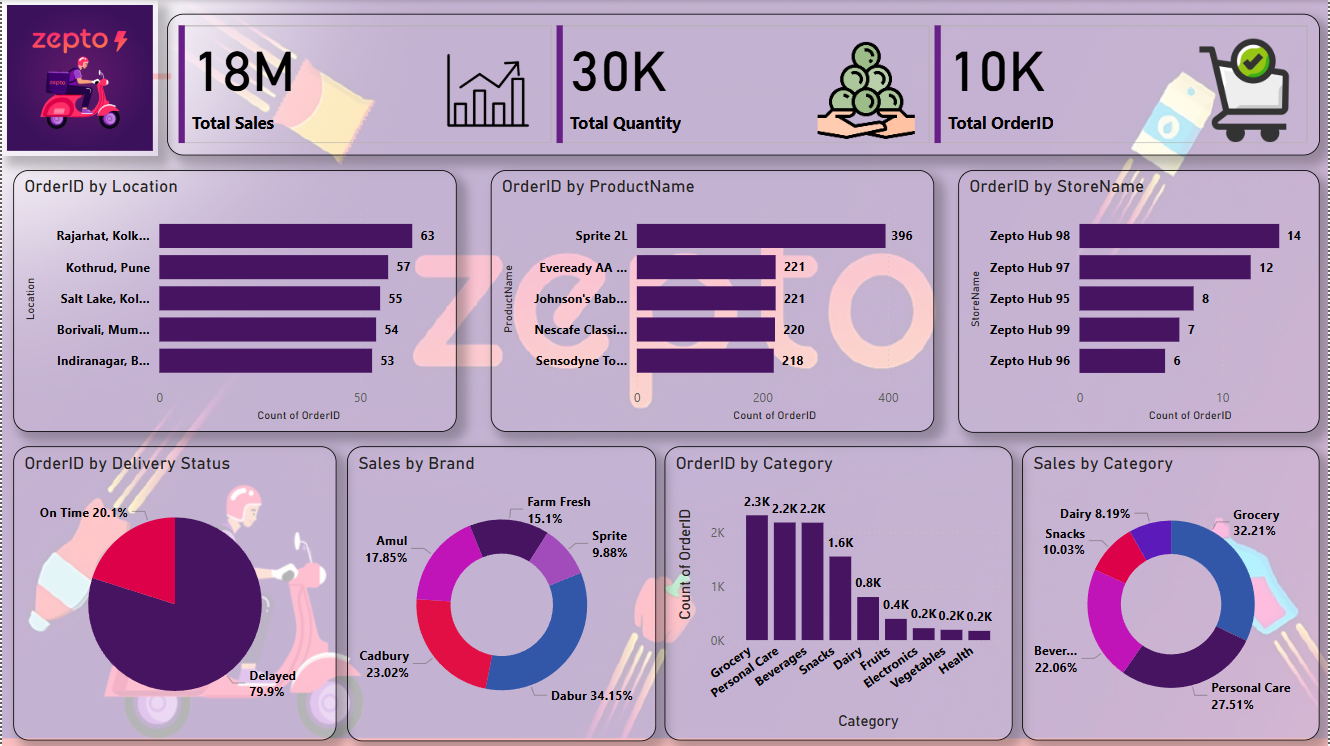

The dashboard page shown, as its layout file describes it:
{"tool":"powerbi","page":{"name":"Page 1","canvas":[1280,720],"ordinal":0},"visuals":[{"type":"pieChart","title":"OrderID by Delivery Status","fields":{"Category":["Orders.Delivery Status"],"Y":["CountNonNull(Orders.OrderID)"]},"box":[11,430.4,311.8,283.7],"z":0},{"type":"clusteredBarChart","title":" OrderID by ProductName","fields":{"Category":["Products.ProductName"],"Y":["CountNonNull(Orders.OrderID)"]},"box":[472,163.9,428,253.1],"z":1000},{"type":"clusteredBarChart","title":" OrderID by StoreName","fields":{"Category":["Warehouse.StoreName"],"Y":["CountNonNull(Returns.OrderID)"]},"box":[922.9,164.1,348.7,253.4],"z":2000},{"type":"clusteredBarChart","title":"OrderID by Location","fields":{"Y":["CountNonNull(Returns.OrderID)"],"Category":["Warehouse.Location"]},"box":[11,163.9,428,253.1],"z":3000},{"type":"clusteredColumnChart","title":"OrderID by Category","fields":{"Category":["Products.Category"],"Y":["CountNonNull(Orders.OrderID)"]},"box":[639.5,430.4,336.3,283.7],"z":4000},{"type":"donutChart","fields":{"Category":["Zepto Supply Chain.Brand"],"Y":["Table.Sales"]},"box":[332.6,430.4,298.4,284.9],"z":5000},{"type":"donutChart","fields":{"Category":["Products.Category"],"Y":["Table.Sales"]},"box":[984.4,430.4,287.4,283.7],"z":6000},{"type":"image","box":[0,0,150.4,150.4],"z":7000},{"type":"cardVisual","fields":{"Data":["Table.Sales","Sum(Orders.Quantity)","CountNonNull(Orders.OrderID)"]},"box":[159,13.5,1112.8,137],"z":8000}]}

Visuals, with their boxes in screenshot pixels (x1, y1, x2, y2), scaled from the page's 1280x720 canvas onto the 1330x746 screenshot:
"OrderID by Delivery Status" pieChart: x1=11 y1=446 x2=335 y2=740
" OrderID by ProductName" clusteredBarChart: x1=490 y1=170 x2=935 y2=432
" OrderID by StoreName" clusteredBarChart: x1=959 y1=170 x2=1321 y2=433
"OrderID by Location" clusteredBarChart: x1=11 y1=170 x2=456 y2=432
"OrderID by Category" clusteredColumnChart: x1=664 y1=446 x2=1014 y2=740
donutChart - Zepto Supply Chain.Brand x Table.Sales: x1=346 y1=446 x2=656 y2=741
donutChart - Products.Category x Table.Sales: x1=1023 y1=446 x2=1321 y2=740
image: x1=0 y1=0 x2=156 y2=156
cardVisual - Table.Sales x Sum(Orders.Quantity): x1=165 y1=14 x2=1321 y2=156
